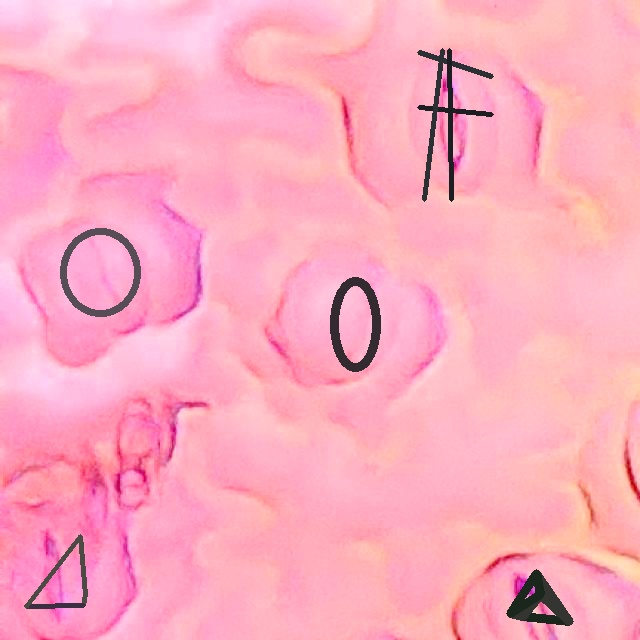close: (59, 229, 141, 316), (328, 277, 381, 372)
open: (417, 48, 493, 201), (24, 534, 87, 607), (506, 569, 573, 620)
